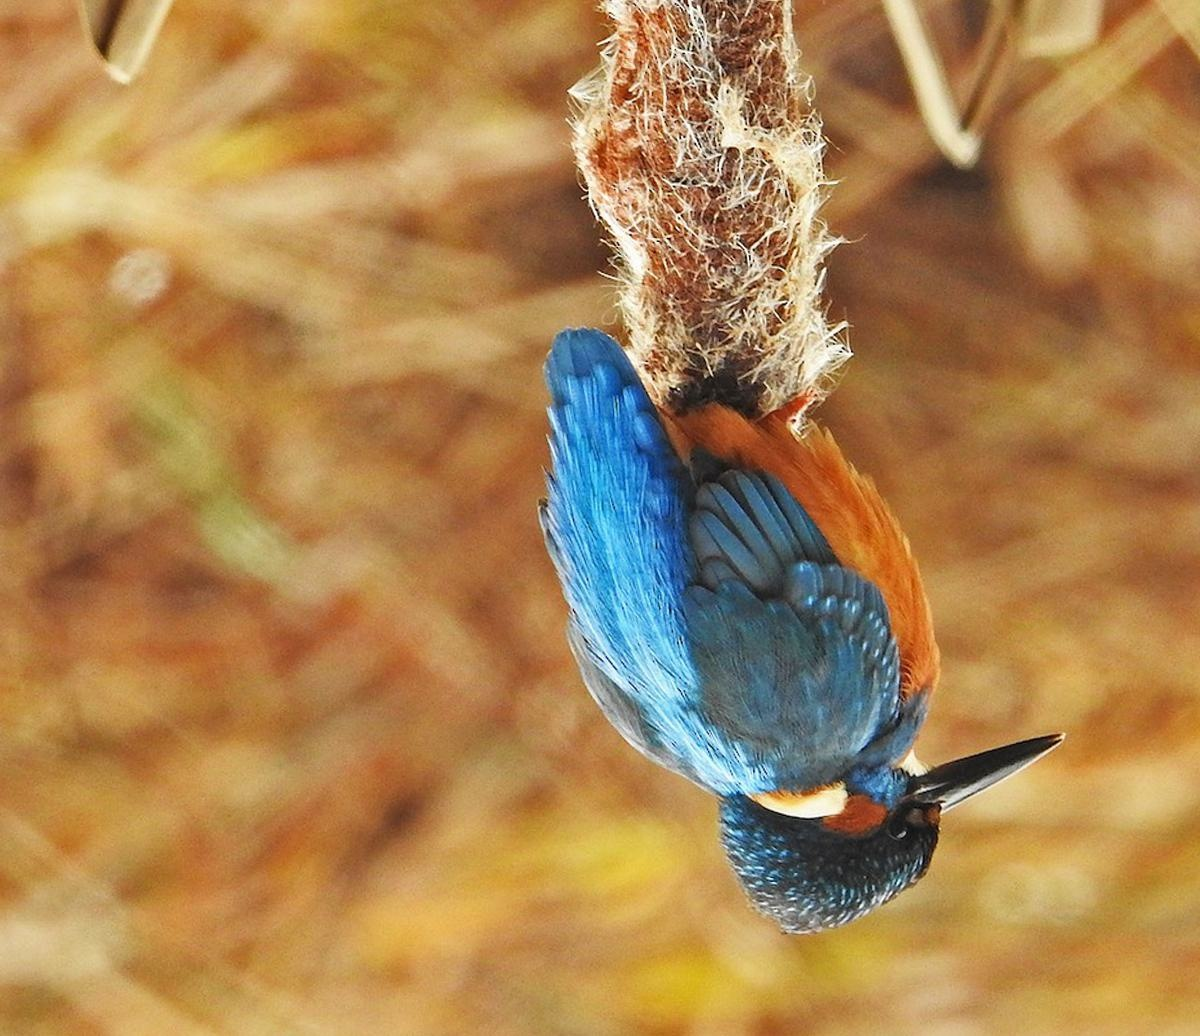kingfisher: (519, 310, 1068, 929)
